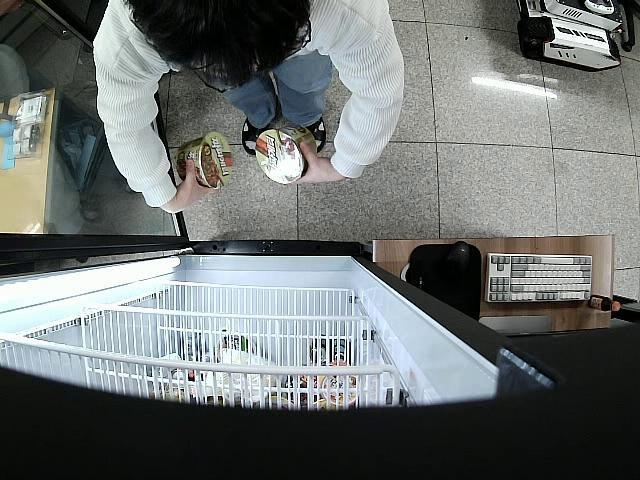03_chapagetti_L: (254, 124, 317, 183), (174, 130, 235, 190)
